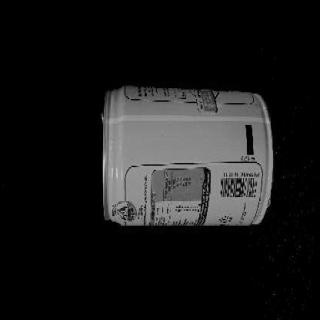alumunium_can: (101, 84, 275, 226)
